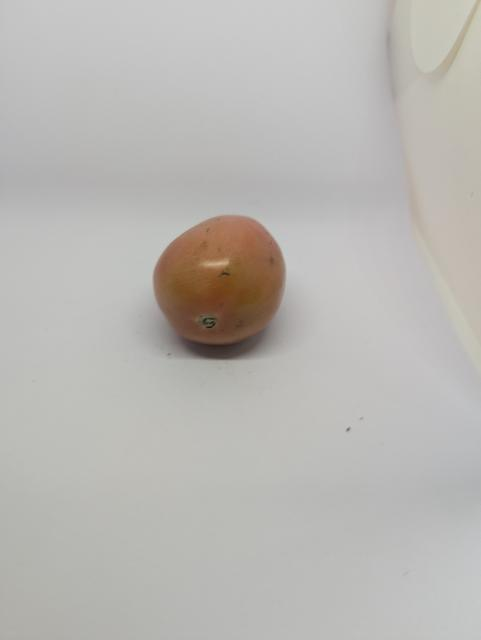turning: (150, 209, 291, 358)
